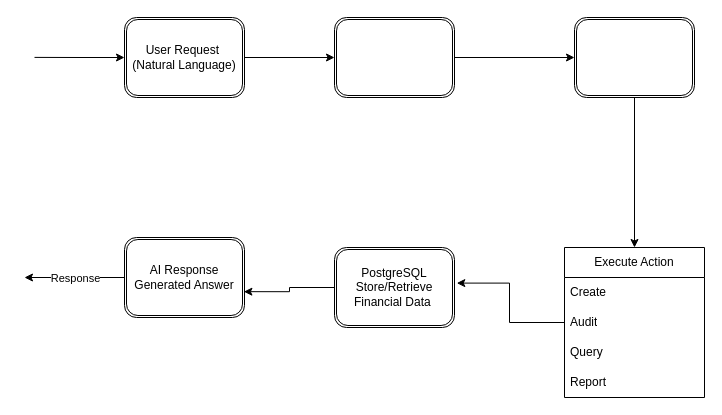
This 722x415 diagram has some shape labels left out. The centre of each missing label's shape, as x and y in pixels:
"Select Tool" goes at pixel 634 57.
"🔷 AI Agent Understand Intent" goes at pixel 394 57.
